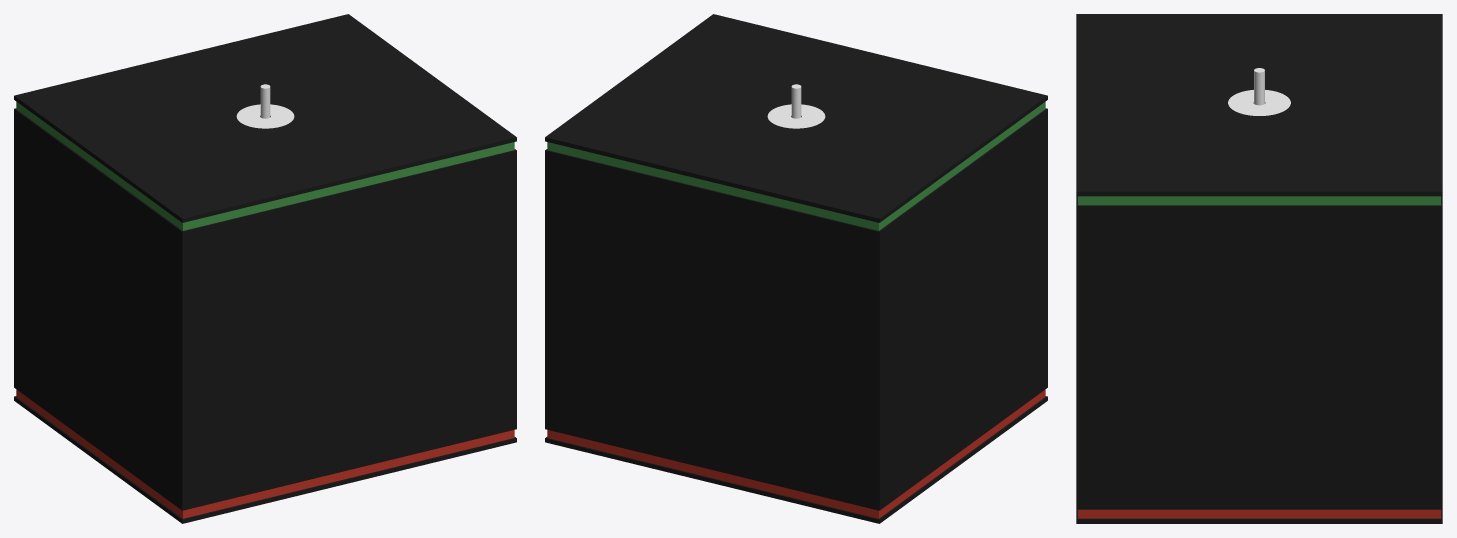
The picture shows the model from 3 angles, left to right: view 1: azimuth 30°, elevation 25°; view 2: azimuth 150°, elevation 25°; view 3: azimuth 270°, elevation 25°; orthographic projection. The views are drawn at different scales.
Visible parts, largest first — view 1: base_link; view 2: base_link; view 3: base_link.
Part boxes in pixels (x1=…): base_link: x1=14, y1=14, x2=516, y2=523; base_link: x1=545, y1=14, x2=1047, y2=523; base_link: x1=1076, y1=14, x2=1442, y2=523.
Bounding box in the file's own units: 0.117 × 0.102 × 0.112.
